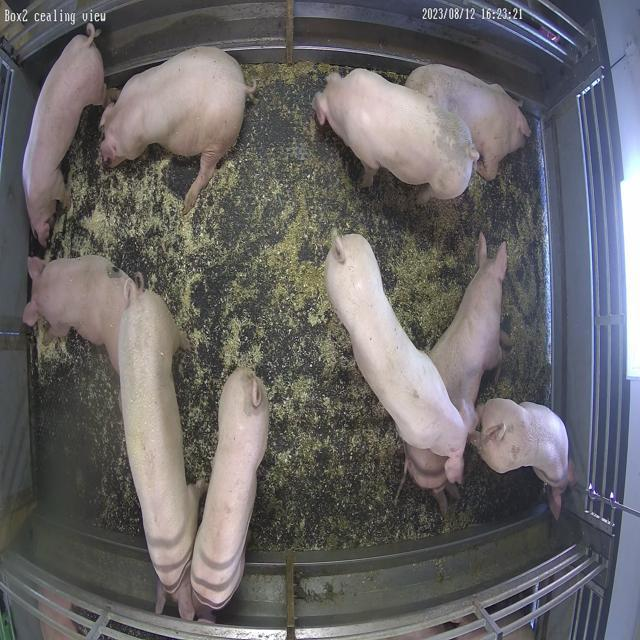Dirt: (50, 63, 551, 551)
Pig: (327, 234, 469, 484), (100, 46, 255, 214), (118, 287, 199, 594), (313, 68, 480, 199), (191, 369, 267, 612), (22, 23, 104, 246), (429, 233, 509, 432), (406, 64, 532, 180), (23, 256, 134, 370), (471, 400, 571, 520), (406, 445, 457, 512)
